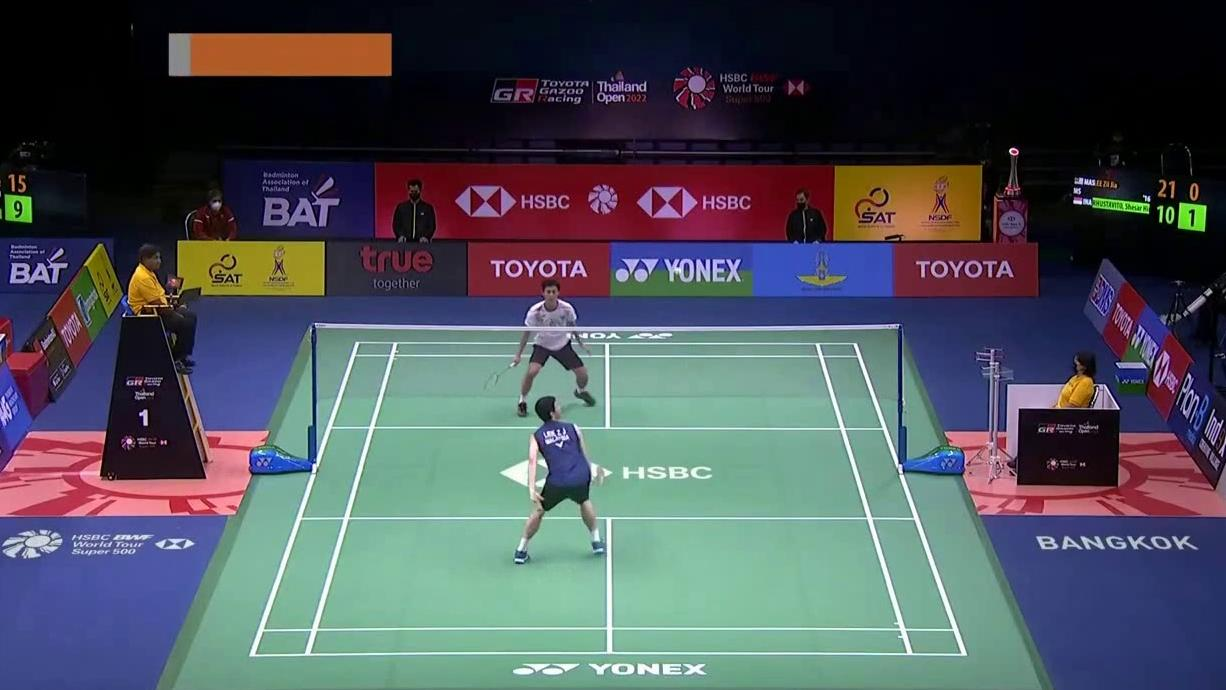racket: (482, 359, 522, 393), (572, 466, 607, 485)
shuttle: (673, 267, 681, 275)
